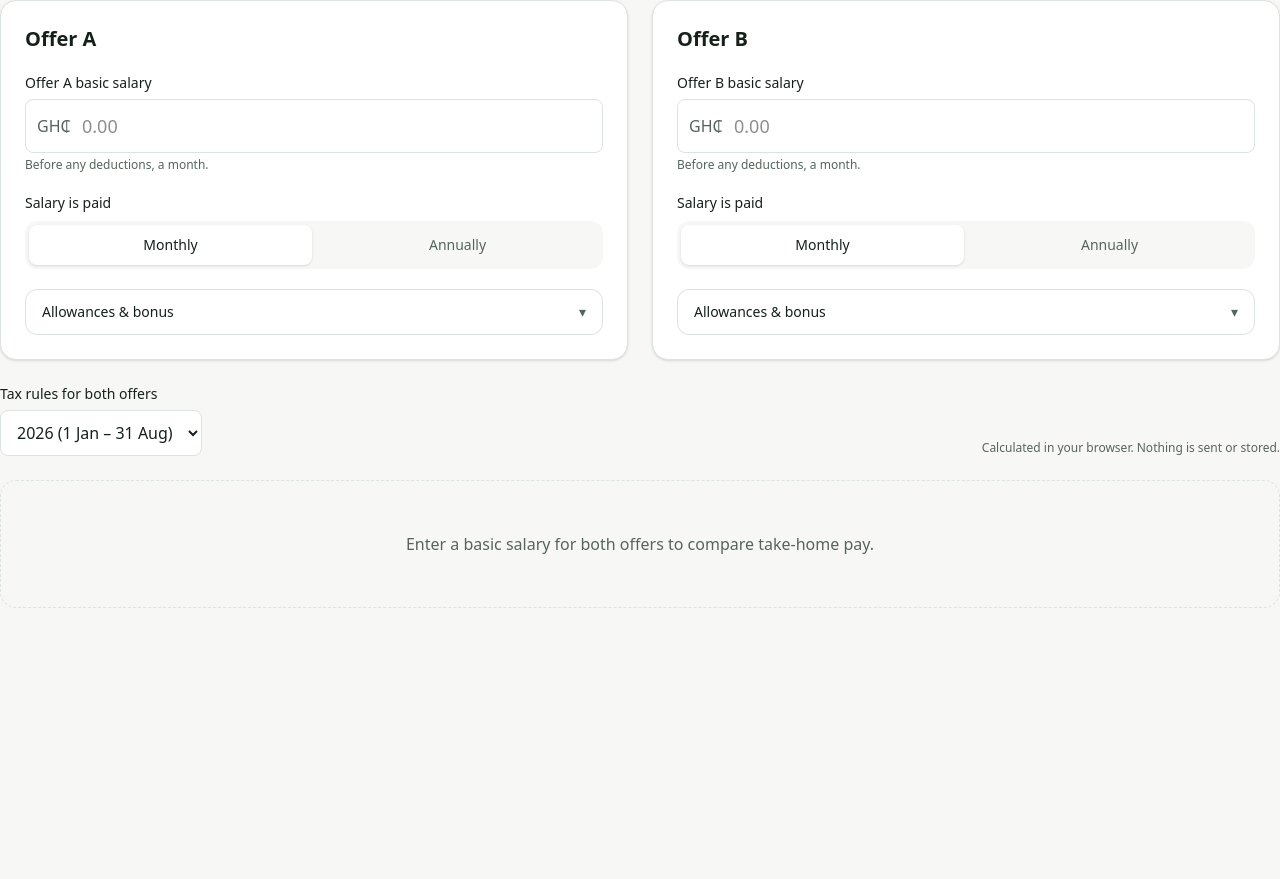
SalaryComparison › recalculates both offers when the tax year changes
Type "100000" into the field labelled "Offer A basic salary". click: x=314, y=126
box: top-left (25, 99), bottom-right (603, 153)
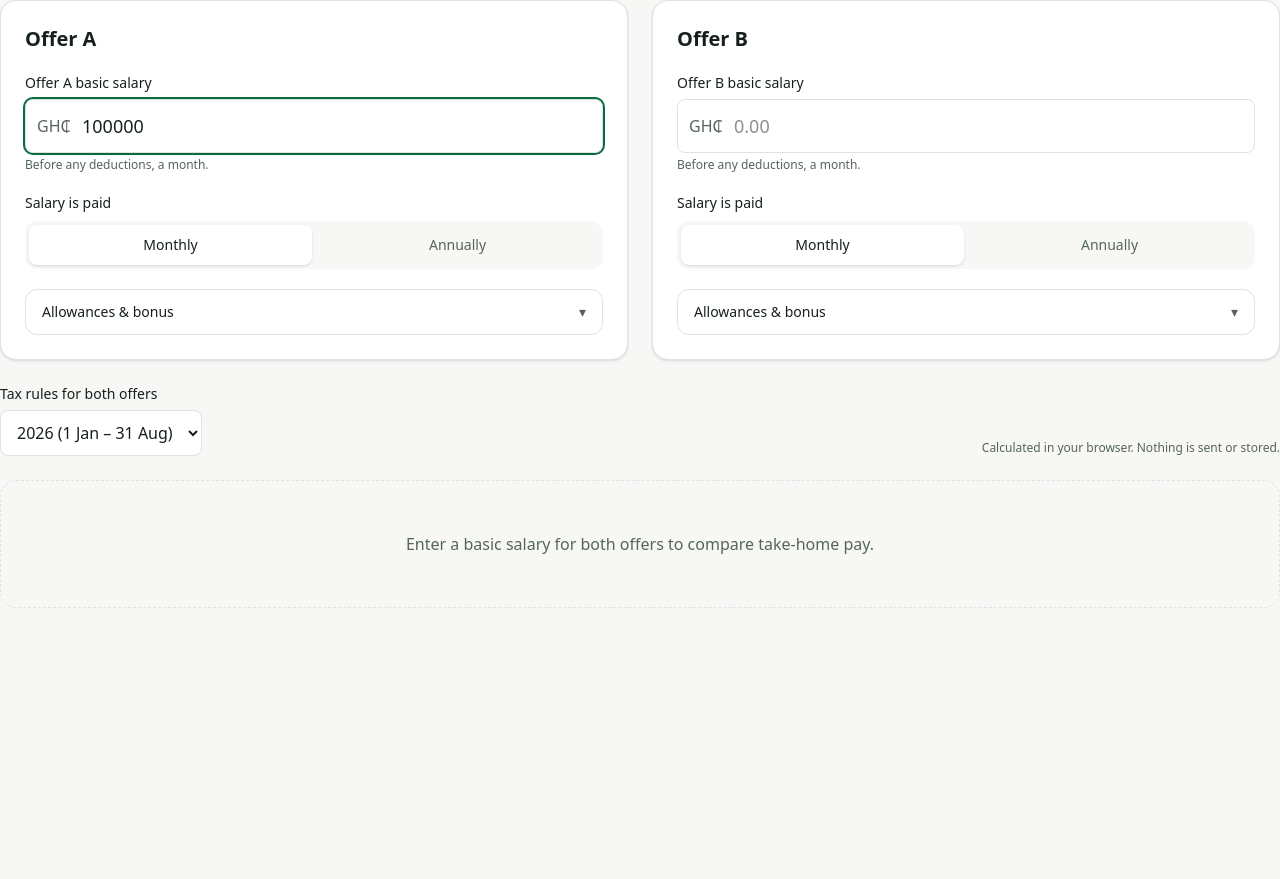
Type "65000" into the field labelled "Offer B basic salary". click: x=966, y=126
box: top-left (677, 99), bottom-right (1255, 153)
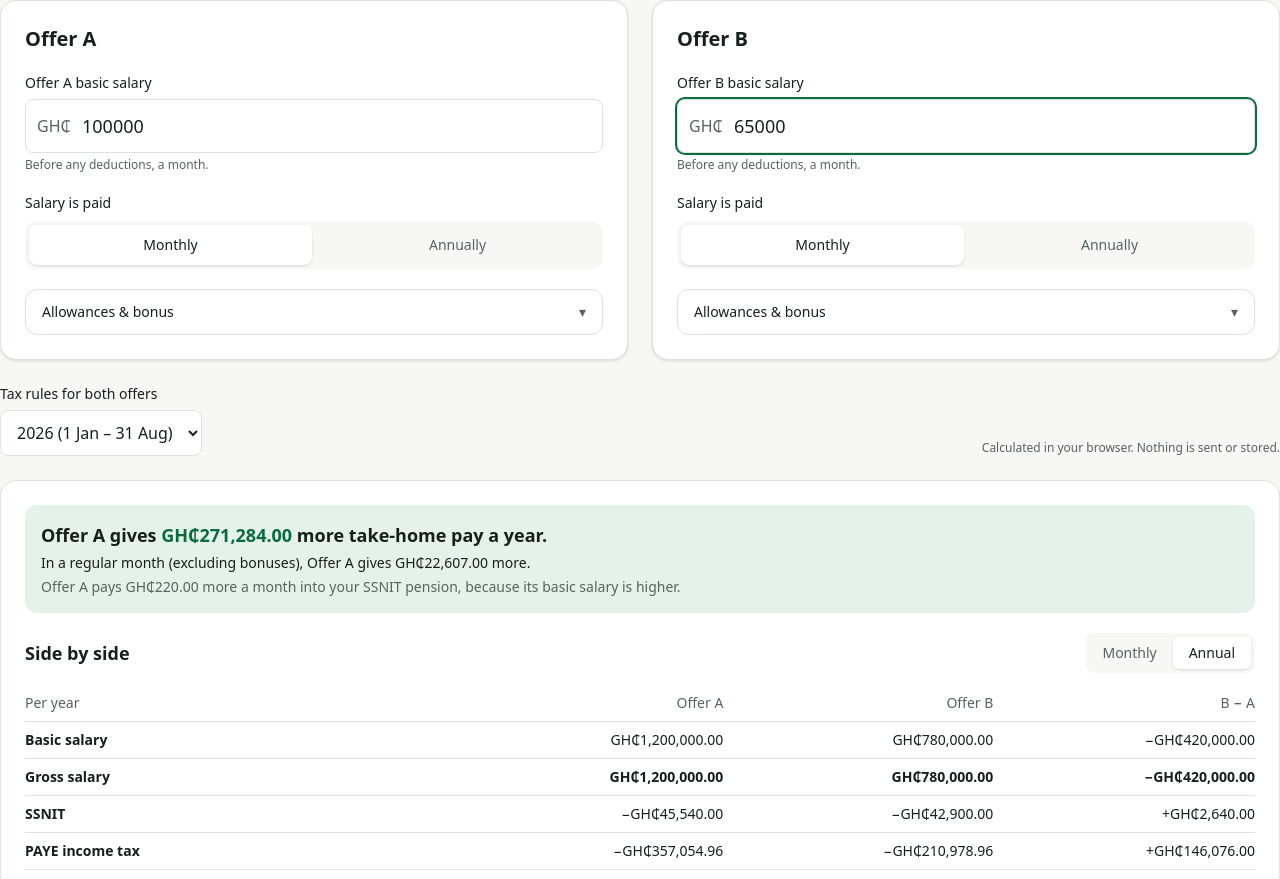
Select "2025" in the dropdown labelled "Tax rules for both offers". click: x=101, y=433
box: top-left (0, 410), bottom-right (202, 456)
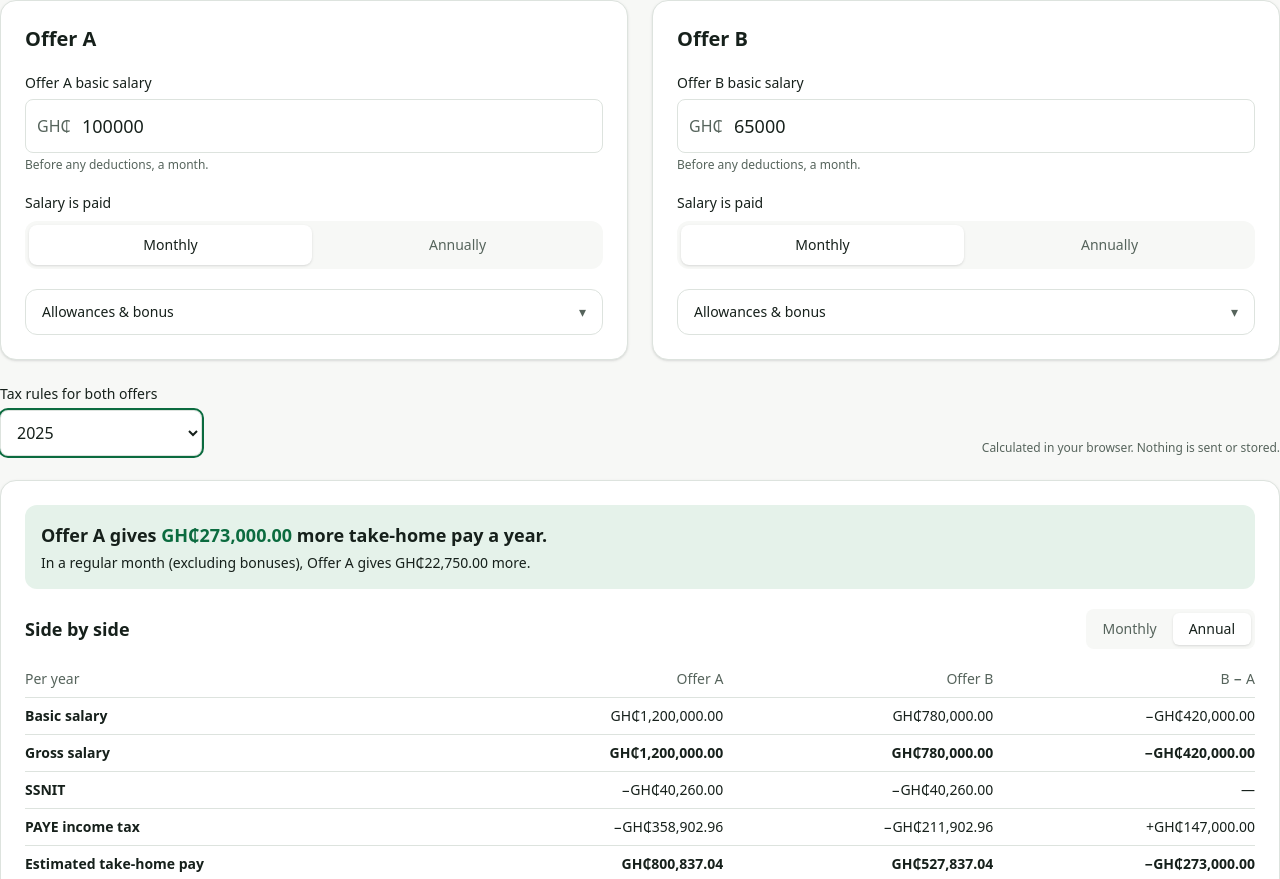
Expected: the row "SSNIT" shows "−GH₵40,260.00", top-left (621, 780), bottom-right (723, 799)
